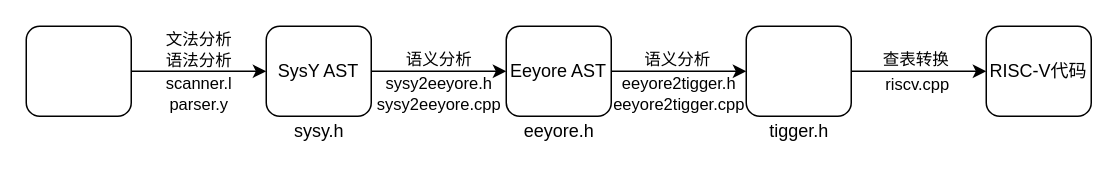
This 1118x173 diagram has some shape labels left out. The shapes that lost their labels are listed below. From the top down, each one's centre as x and y in pixels, then its label:
At (x=78, y=70): "SysY代码".
At (x=798, y=70): "Tigger AST".
